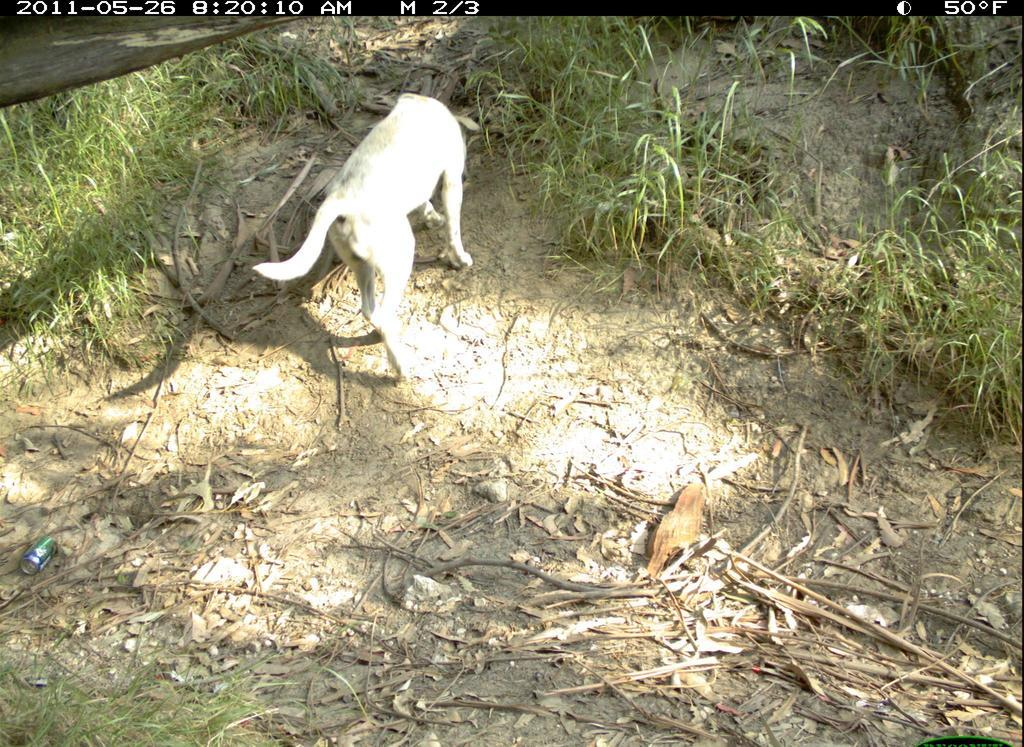dog: (254, 79, 484, 386)
